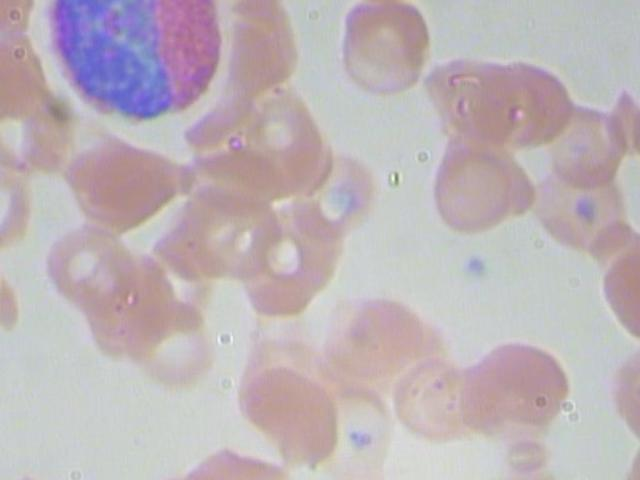Platelets: (214, 76, 340, 204), (456, 248, 500, 287)
RBC: (49, 10, 237, 131), (50, 108, 201, 239), (315, 265, 455, 394), (214, 199, 353, 327), (109, 281, 233, 410), (227, 349, 349, 480), (517, 134, 640, 262), (406, 130, 527, 253), (407, 35, 528, 158), (468, 38, 589, 161), (28, 216, 150, 327), (325, 0, 446, 110), (529, 75, 635, 200), (371, 344, 491, 454), (457, 329, 577, 439), (279, 143, 387, 248)
WBC: (37, 0, 225, 29)
